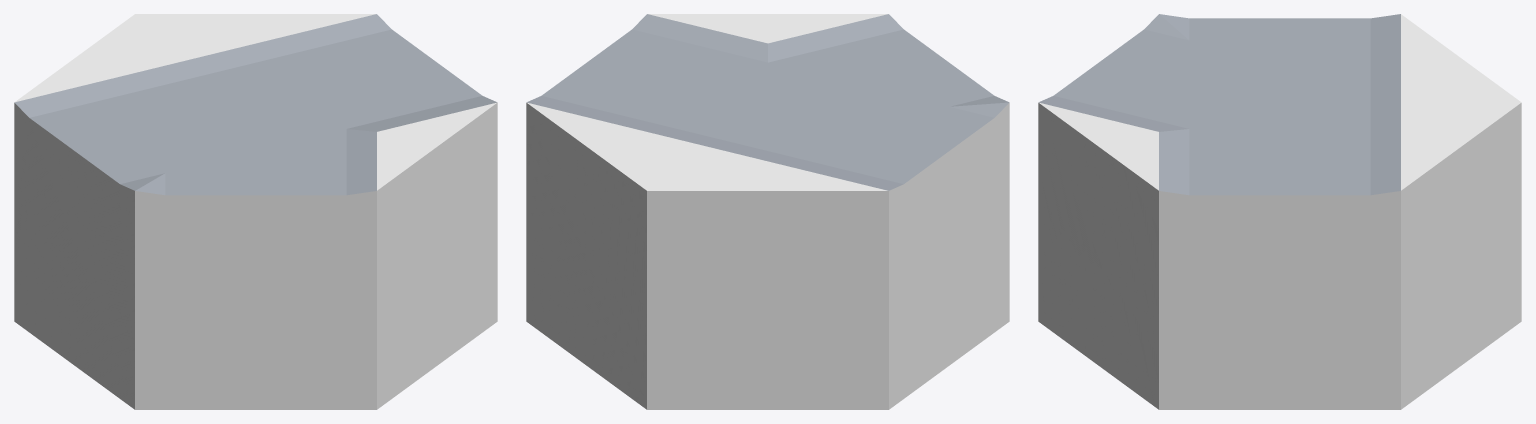
File: snow_road4.fbx
The picture shows the model from 3 angles, left to right: view 1: azimuth 30°, elevation 25°; view 2: azimuth 150°, elevation 25°; view 3: azimuth 270°, elevation 25°; orthographic projection.
Visible parts, largest first — view 1: Cylinder; view 2: Cylinder; view 3: Cylinder.
Part boxes in pixels (x1,y1,x2,y2): Cylinder: (14,14,497,409); Cylinder: (526,14,1009,409); Cylinder: (1038,14,1521,409).
Bounding box in the file's own units: 1.73 × 1 × 2.
